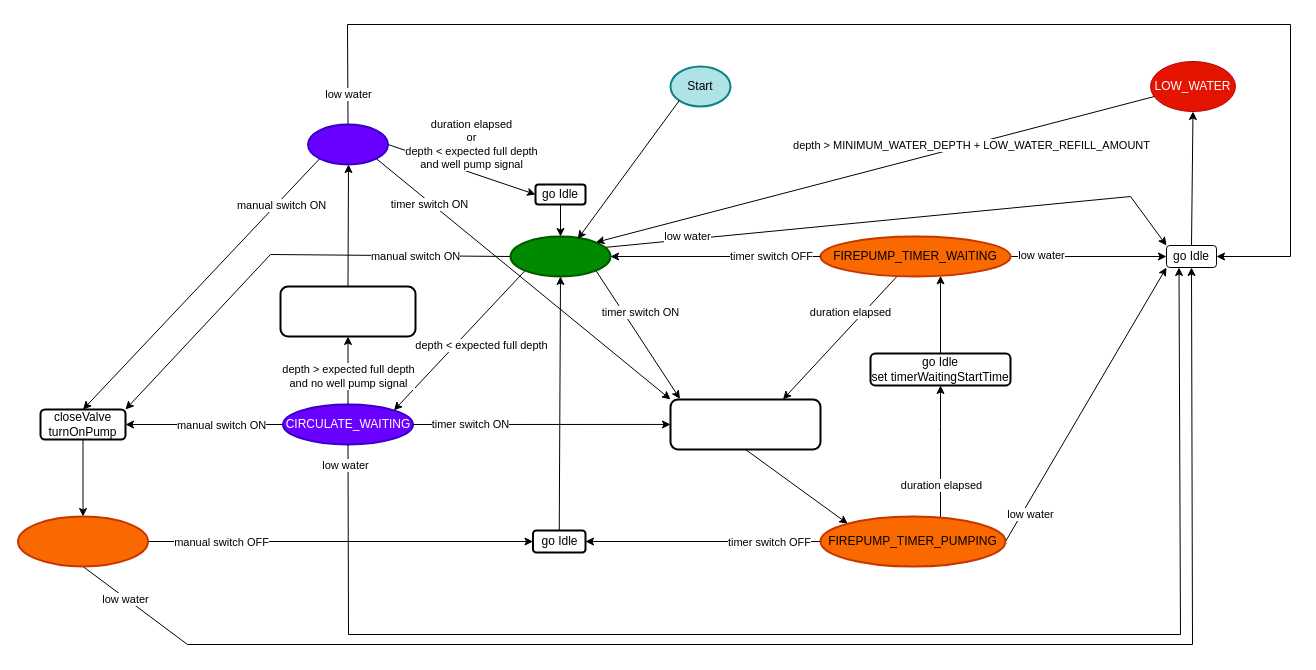
Some shapes in this 1316 by 670 pixel diagram are drawn without their labels. Each missing label, with the centre of its shape:
CIRCULATE: [347,144]
closeValve turnOnPump set timerPumpingStartTime: [745,424]
FIREPUMP_MANUAL: [82,541]
IDLE: [560,256]
openValve turnOnPump set circulationStartTime: [347,311]
